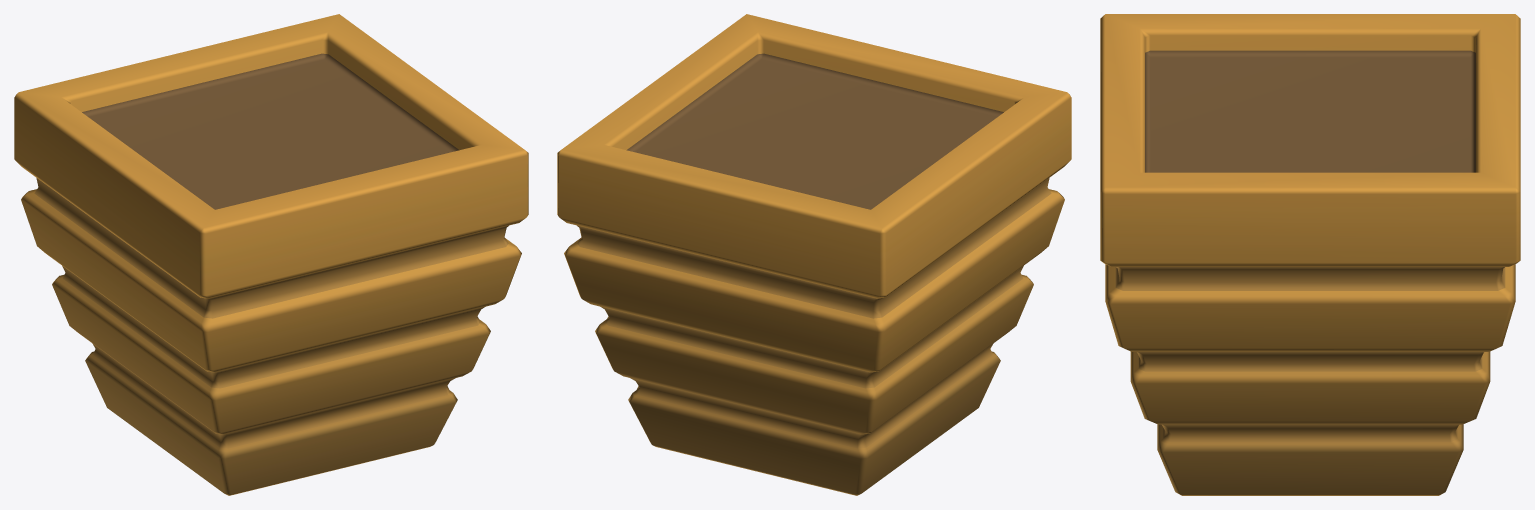
File: PlantPot_Ribbed.fbx
The picture shows the model from 3 angles, left to right: view 1: azimuth 30°, elevation 25°; view 2: azimuth 150°, elevation 25°; view 3: azimuth 270°, elevation 25°; orthographic projection. The views are drawn at different scales.
Visible parts, largest first — view 1: Cube.012; view 2: Cube.012; view 3: Cube.012.
Boxes of the visible parts, left/top/right/bottom form: Cube.012: left=14, top=14, right=528, bottom=495; Cube.012: left=557, top=14, right=1071, bottom=495; Cube.012: left=1100, top=14, right=1520, bottom=495.
Size of the model in its own units: 89.12 by 79.75 by 89.12.
